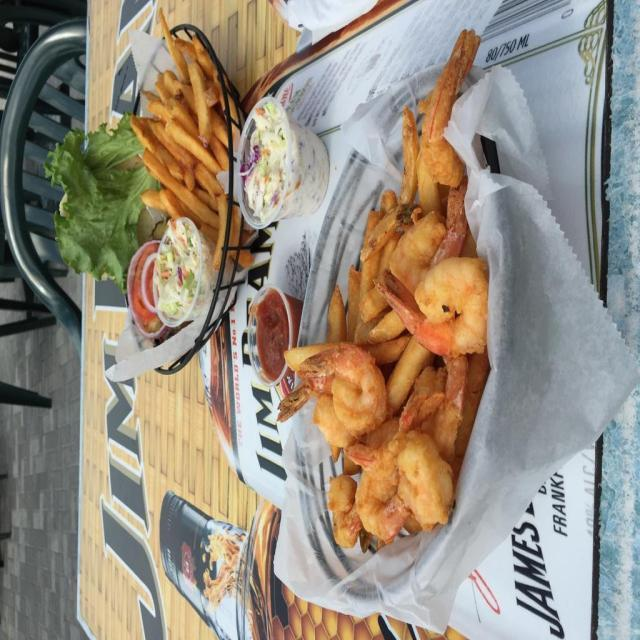Shrimp: (284, 332, 389, 444), (356, 408, 436, 530), (422, 24, 480, 188), (374, 268, 484, 352), (391, 185, 467, 295), (403, 355, 476, 465), (400, 432, 461, 536), (328, 475, 363, 549)
